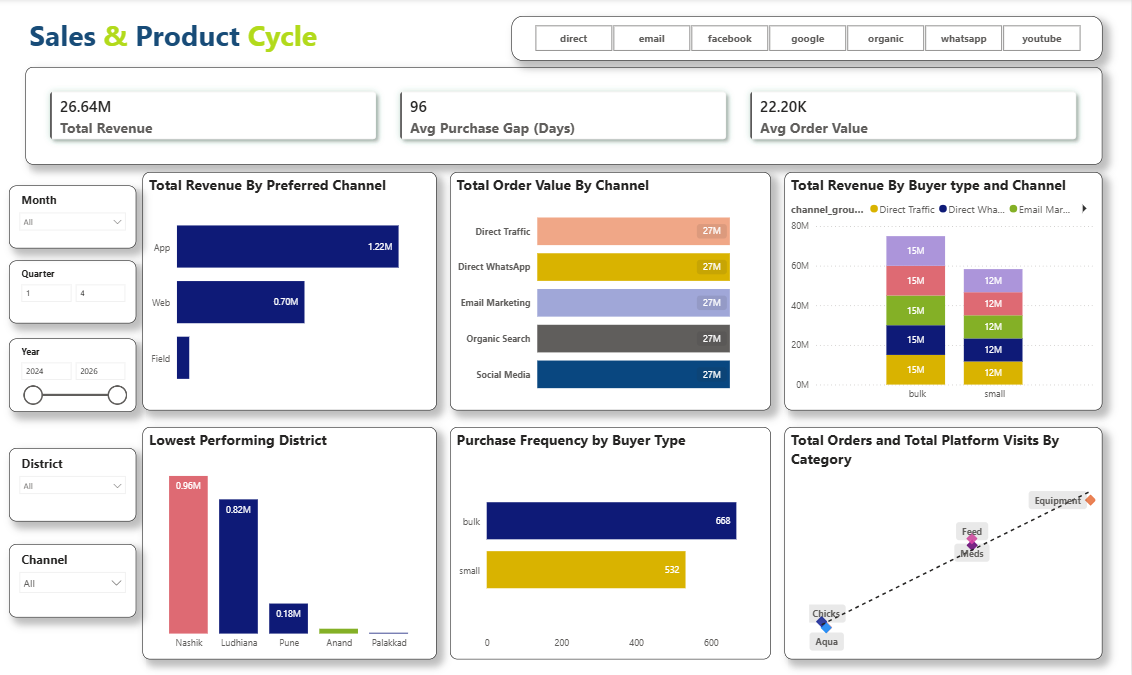

This screenshot's page, from the dashboard's own definition file:
{"tool":"powerbi","page":{"name":"Sales & Product Cycle","canvas":[1500,900],"ordinal":3},"visuals":[{"type":"cardVisual","fields":{"Data":["All Measures.Total Sales","All Measures.Avg Purchase Gap (Days)","All Measures.Avg Order Value"]},"box":[33.8,91.5,1427.6,129.2],"z":0},{"type":"textbox","box":[33.4,17.5,666.5,73.2],"z":1000},{"type":"slicer","fields":{"Values":["dim_calendar.year"]},"box":[11.9,450.9,168.5,97.3],"z":2000},{"type":"slicer","fields":{"Values":["dim_calendar.quarter"]},"box":[11.9,348.9,168.5,83.1],"z":3000},{"type":"scatterChart","title":"Total Orders and Total Platform Visits By Category","fields":{"Category":["dim_products.category"],"X":["All Measures.Total Platform Visits"],"Y":["All Measures.Orders Count"]},"box":[1039.9,568.6,421.5,308.2],"z":4000},{"type":"barChart","title":"Total Order Value By Channel","fields":{"Y":["All Measures.Total Order Value"],"Category":["dim_utm_metadata.channel_grouping"]},"box":[596.5,230.6,425.5,316.1],"z":5000},{"type":"slicer","fields":{"Values":["dim_geospatial_market.district"]},"box":[11.9,595.7,168.5,97.3],"z":6000},{"type":"clusteredBarChart","fields":{"Category":["dim_customers.buyer_type"],"Y":["All Measures.Purchase Frequency"]},"box":[596.5,568.6,425.5,308.2],"z":7000},{"type":"columnChart","title":"Total Revenue By Buyer type and Channel","fields":{"Series":["dim_utm_metadata.channel_grouping"],"Category":["dim_customers.buyer_type"],"Y":["All Measures.Total Revenue"]},"box":[1039.9,230.6,421.5,316.1],"z":8000},{"type":"clusteredColumnChart","title":"Lowest Performing District","fields":{"Category":["dim_geospatial_market.district"],"Y":["All Measures.Total Revenue"]},"box":[188.9,568.6,389.7,308.2],"z":9000},{"type":"clusteredBarChart","title":"Total Revenue By Preferred Channel","fields":{"Y":["All Measures.Total Revenue"],"Category":["dim_customers.preferred_channel"]},"box":[188.9,230.6,389.7,316.1],"z":10000},{"type":"slicer","fields":{"Values":["dim_calendar.month_name"]},"box":[11.9,249.2,168.5,83.1],"z":11000},{"type":"slicer","fields":{"Values":["dim_utm_metadata.channel_grouping"]},"box":[11.9,723.9,168.5,97.3],"z":12000},{"type":"slicer","fields":{"Values":["dim_utm_metadata.Source"]},"box":[678,23.9,783.4,59.6],"z":13000}]}

Visuals, with their boxes in screenshot pixels (x1, y1, x2, y2), scaled from the page's 1500x900 canvas onto the 1132x675 screenshot:
cardVisual - All Measures.Total Sales x All Measures.Avg Purchase Gap (Days): [x1=26, y1=69, x2=1103, y2=166]
textbox: [x1=25, y1=13, x2=528, y2=68]
slicer - dim_calendar.year: [x1=9, y1=338, x2=136, y2=411]
slicer - dim_calendar.quarter: [x1=9, y1=262, x2=136, y2=324]
"Total Orders and Total Platform Visits By Category" scatterChart: [x1=785, y1=426, x2=1103, y2=658]
"Total Order Value By Channel" barChart: [x1=450, y1=173, x2=771, y2=410]
slicer - dim_geospatial_market.district: [x1=9, y1=447, x2=136, y2=520]
clusteredBarChart - dim_customers.buyer_type x All Measures.Purchase Frequency: [x1=450, y1=426, x2=771, y2=658]
"Total Revenue By Buyer type and Channel" columnChart: [x1=785, y1=173, x2=1103, y2=410]
"Lowest Performing District" clusteredColumnChart: [x1=143, y1=426, x2=437, y2=658]
"Total Revenue By Preferred Channel" clusteredBarChart: [x1=143, y1=173, x2=437, y2=410]
slicer - dim_calendar.month_name: [x1=9, y1=187, x2=136, y2=249]
slicer - dim_utm_metadata.channel_grouping: [x1=9, y1=543, x2=136, y2=616]
slicer - dim_utm_metadata.Source: [x1=512, y1=18, x2=1103, y2=63]
